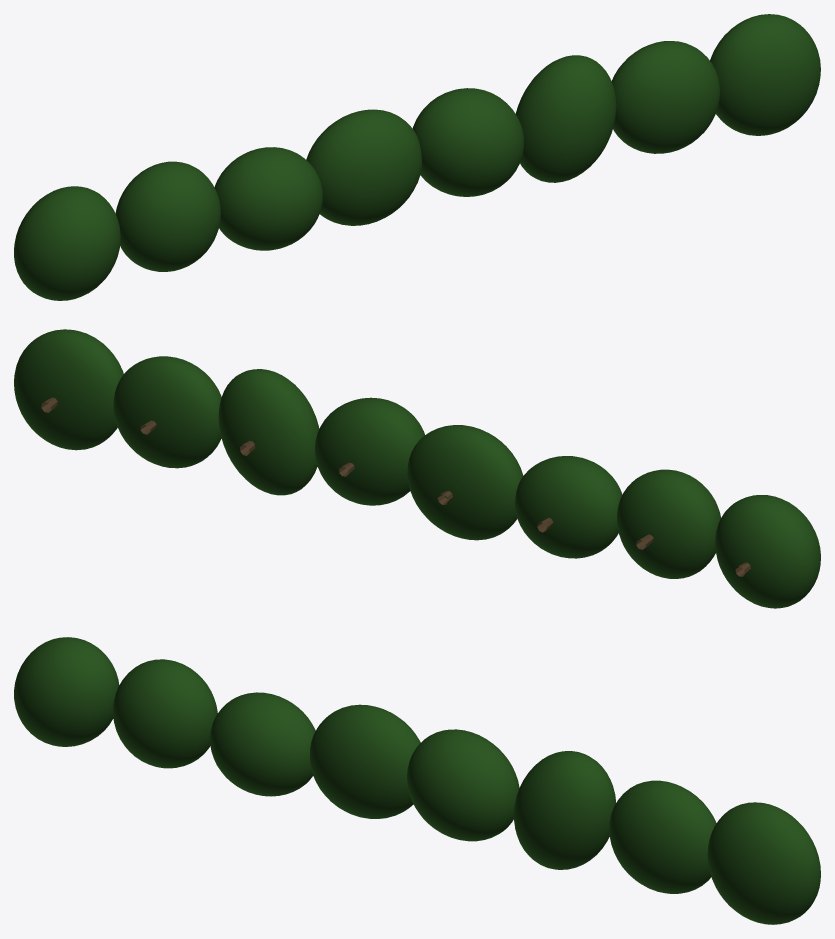
Rendered from citrus_plain8_b.obj.
3 renders of one model, top to bottom at view 1: azimuth 30°, elevation 25°; view 2: azimuth 150°, elevation 25°; view 3: azimuth 330°, elevation 25°, orthographic.
Visible parts, largest first — view 1: canopy; view 2: canopy, trunk; view 3: canopy.
Part boxes in pixels (bbox=[...]): canopy: bbox=[14, 14, 820, 300]; canopy: bbox=[14, 329, 820, 608]; trunk: bbox=[41, 397, 750, 576]; canopy: bbox=[14, 637, 820, 924].
Size of the model in its own units: 24.06 by 3.52 by 2.74.
